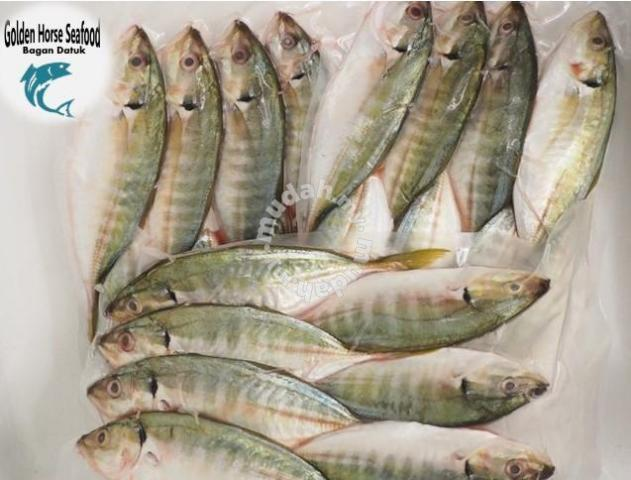Ikan Selar: (74, 344, 354, 448), (74, 18, 169, 308), (306, 331, 572, 433), (534, 11, 629, 278), (316, 254, 575, 345), (72, 239, 338, 323), (55, 412, 323, 480), (212, 12, 285, 252), (149, 26, 220, 256), (295, 422, 570, 480), (478, 8, 533, 247)
